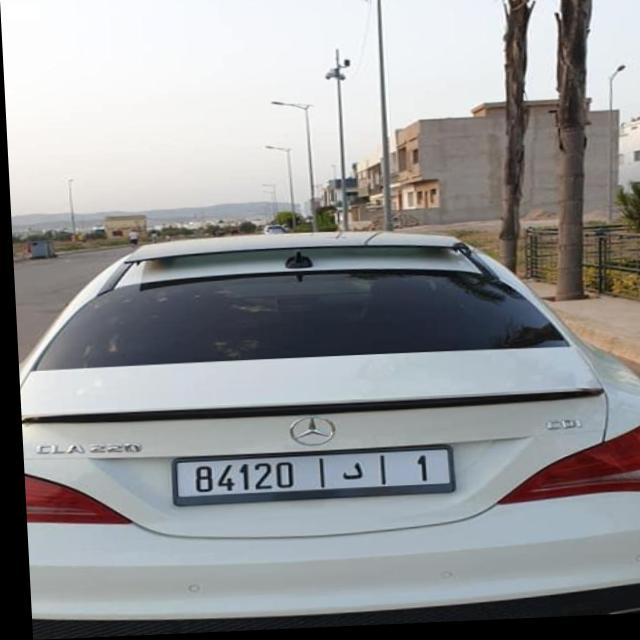License-Plate: (169, 450, 450, 507)
